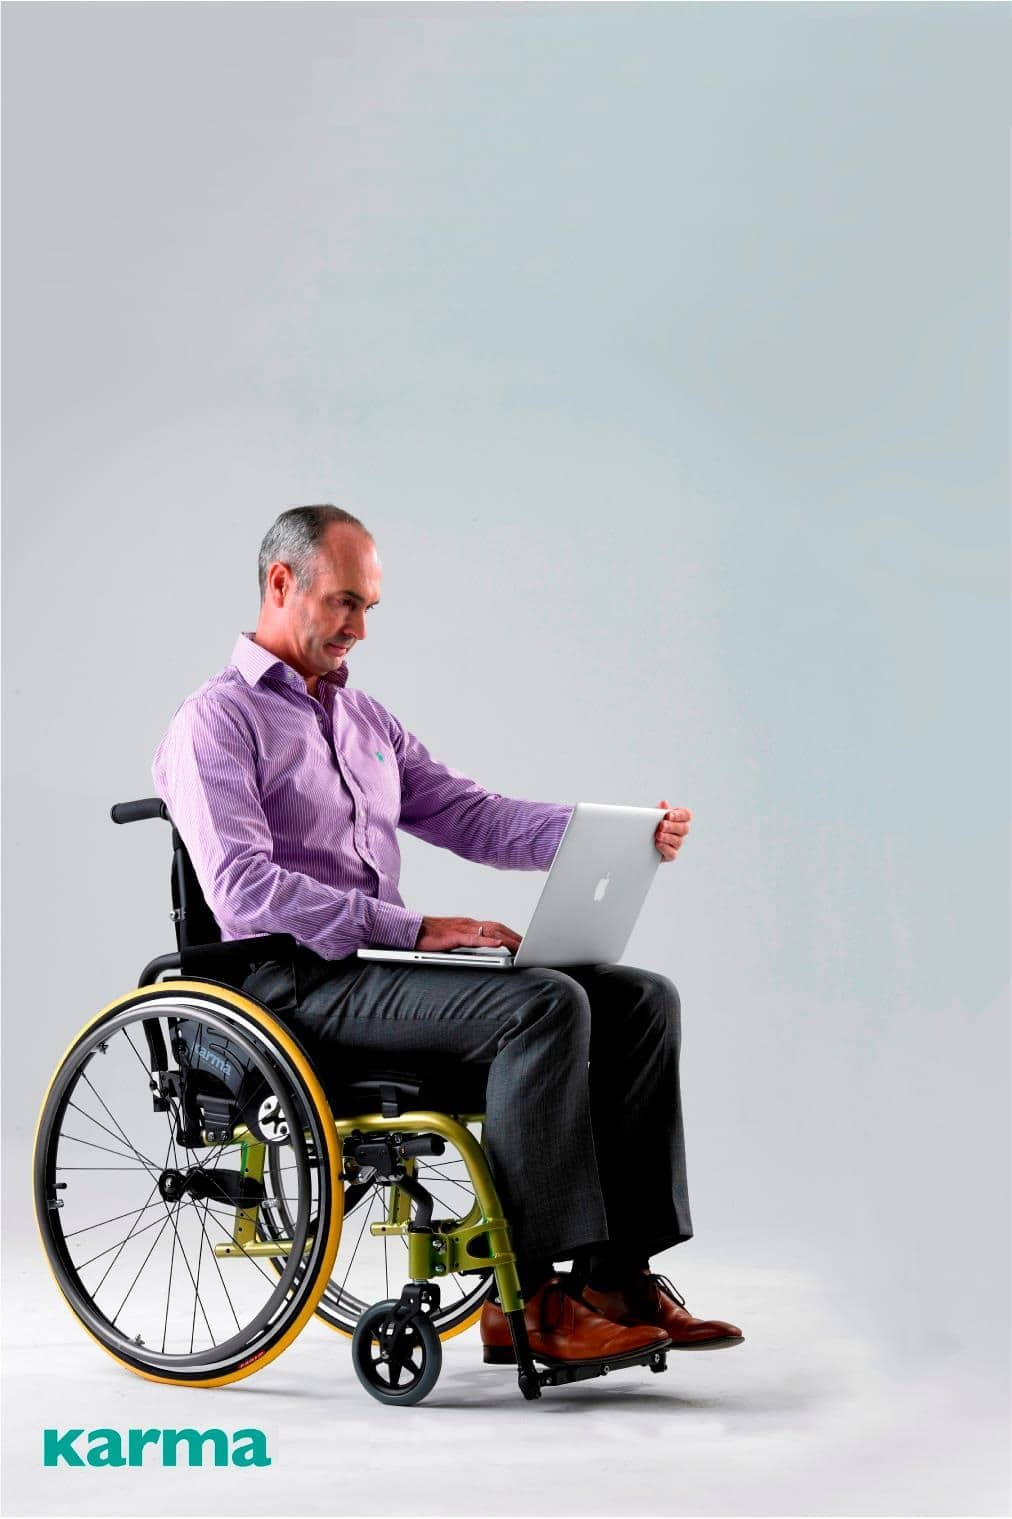wheelchair: (26, 499, 745, 1396)
